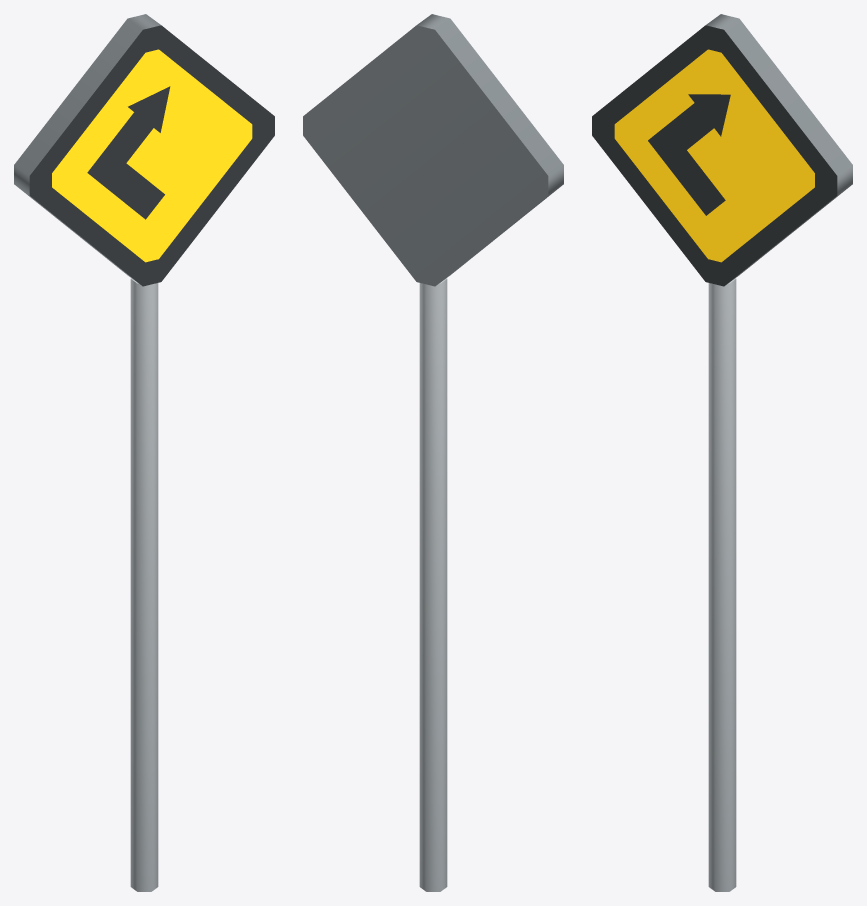
The model's file is Road_Sign_05.glb.
The picture shows the model from 3 angles, left to right: view 1: azimuth 30°, elevation 25°; view 2: azimuth 150°, elevation 25°; view 3: azimuth 330°, elevation 25°; orthographic projection.
Visible parts, largest first — view 1: Road_Sign_05; view 2: Road_Sign_05; view 3: Road_Sign_05.
Part boxes in pixels (<box>): Road_Sign_05: <box>14,14,274,891</box>; Road_Sign_05: <box>303,14,563,891</box>; Road_Sign_05: <box>592,14,852,891</box>.
Size of the model in its own units: 0.8194 by 2.76 by 0.0952.
1 material, 1 textured.
